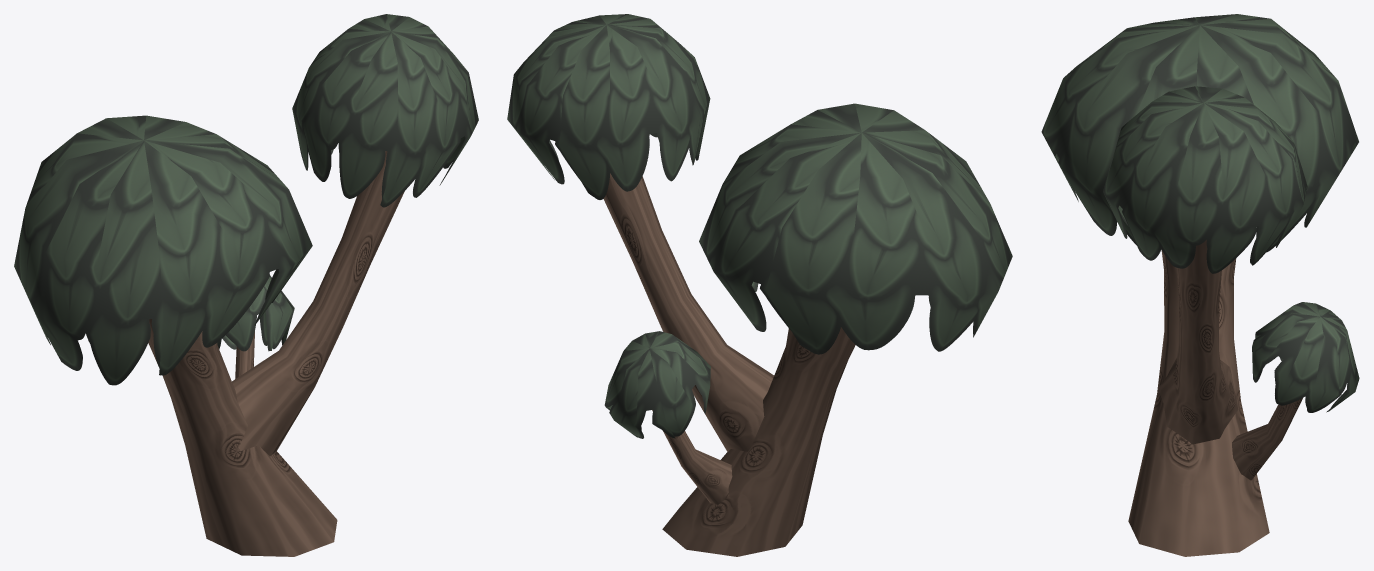
The model's file is tree_b_03.FBX.
The picture shows the model from 3 angles, left to right: view 1: azimuth 30°, elevation 25°; view 2: azimuth 150°, elevation 25°; view 3: azimuth 270°, elevation 25°; orthographic projection. The views are drawn at different scales.
Parts seen in each view (by area): view 1: tree_b_03; view 2: tree_b_03; view 3: tree_b_03.
Boxes of the visible parts, x1,y1,x2,y2 form: tree_b_03: (14,14,478,556); tree_b_03: (507,14,1012,556); tree_b_03: (1041,14,1359,556).
Size of the model in its own units: 56.73 by 56.51 by 33.53.
Materials: 2 (2 with a texture image).
